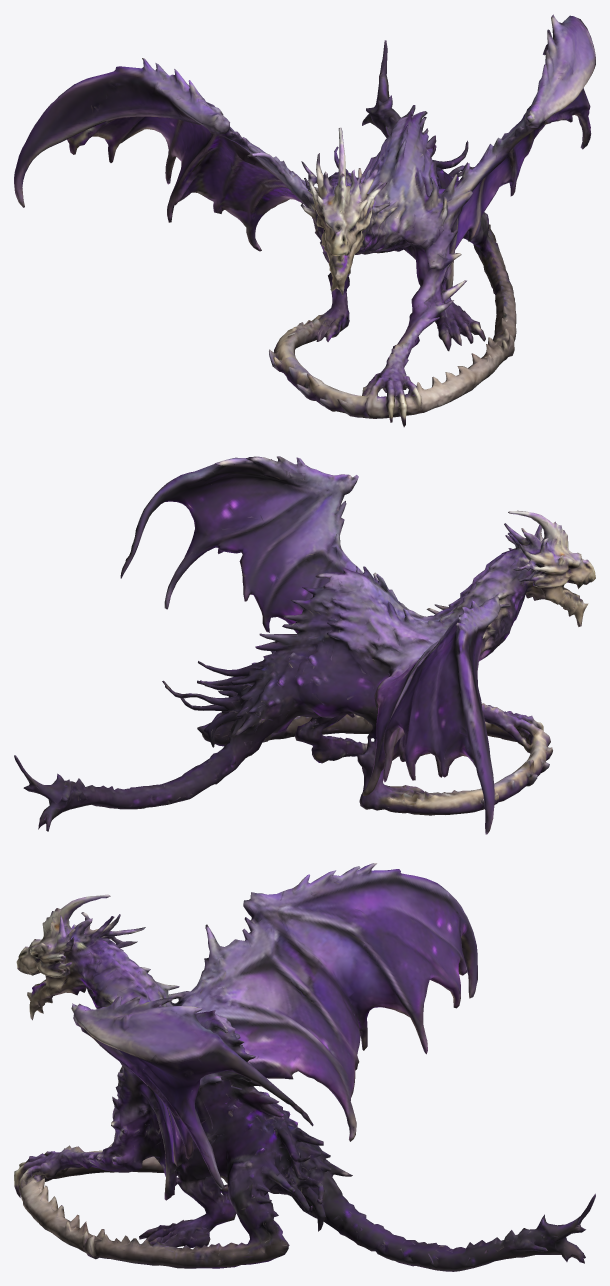
File: Ravener_final.glb
3 views of the same model, one above another, from view 1: azimuth 30°, elevation 25°; view 2: azimuth 150°, elevation 25°; view 3: azimuth 270°, elevation 25° (orthographic). The views are drawn at different scales.
Parts seen in each view (by area): view 1: Mesh1.0; view 2: Mesh1.0; view 3: Mesh1.0.
Boxes of the visible parts, left/top/right/bottom form: Mesh1.0: left=14, top=14, right=595, bottom=427; Mesh1.0: left=14, top=456, right=595, bottom=834; Mesh1.0: left=14, top=863, right=595, bottom=1271.
Bounding box in the file's own units: 16.36 × 10 × 16.93.
Materials: 1 (1 with a texture image).
